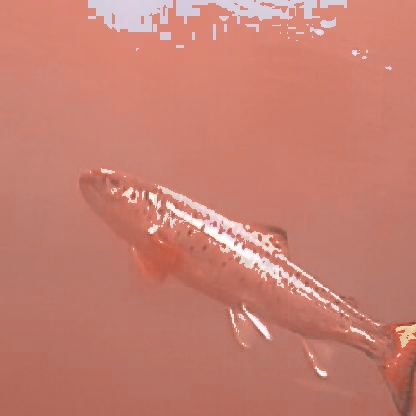salmon: (71, 160, 413, 414)
